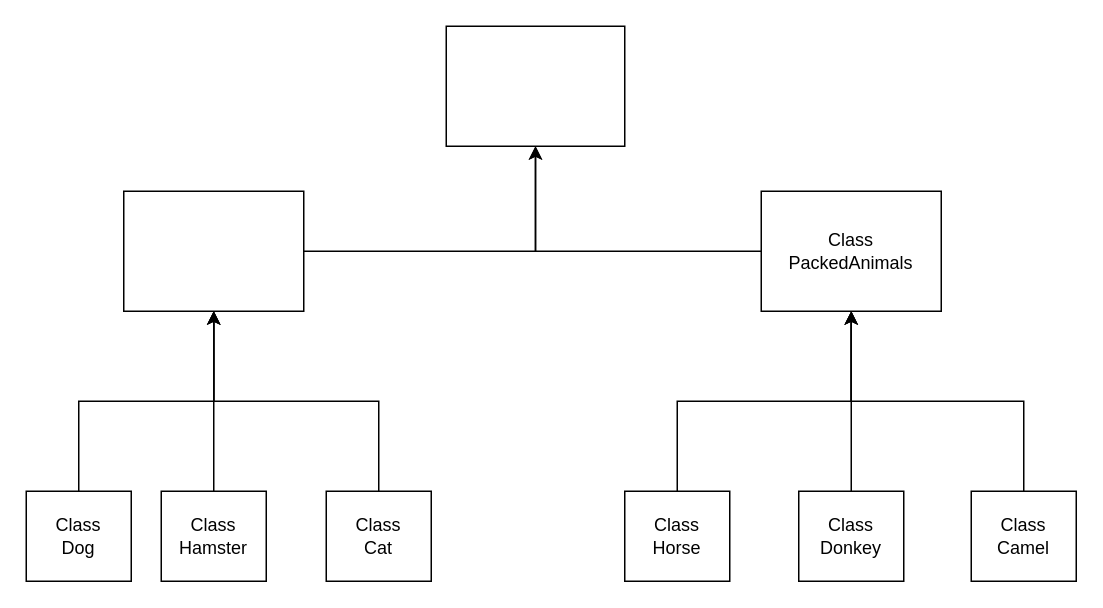
This 1103x608 diagram has some shape labels left out. The shapes that lost their labels are listed below. From the top down, each one's centre as x and y in pixels, then its label:
point 535,85: Class Animals
point 213,250: Class HomeAnimals
